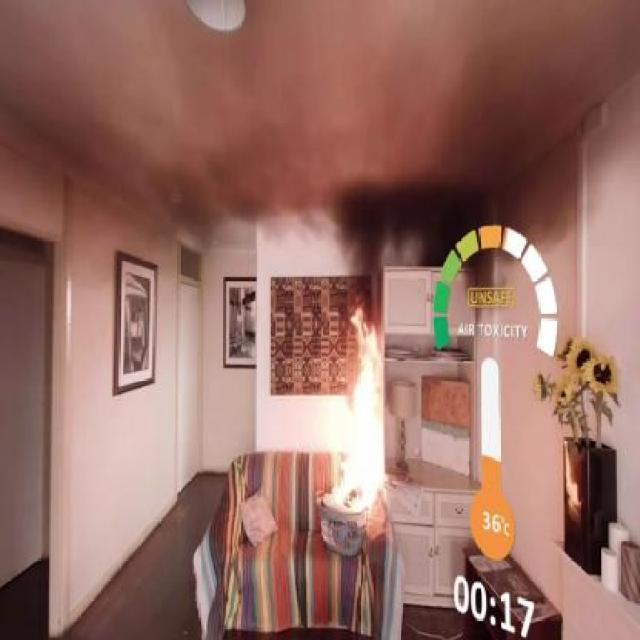fire: (320, 316, 398, 542)
smoke: (280, 166, 503, 262)
